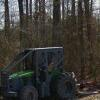Tractor: (5, 40, 79, 100)
